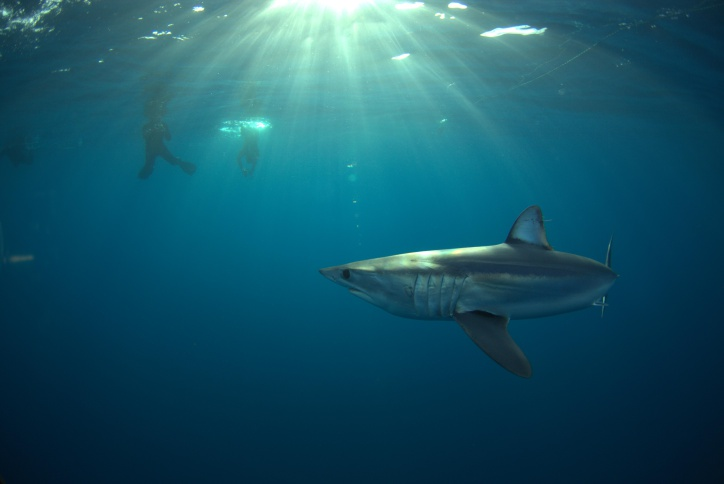Mako: (283, 198, 644, 386)
